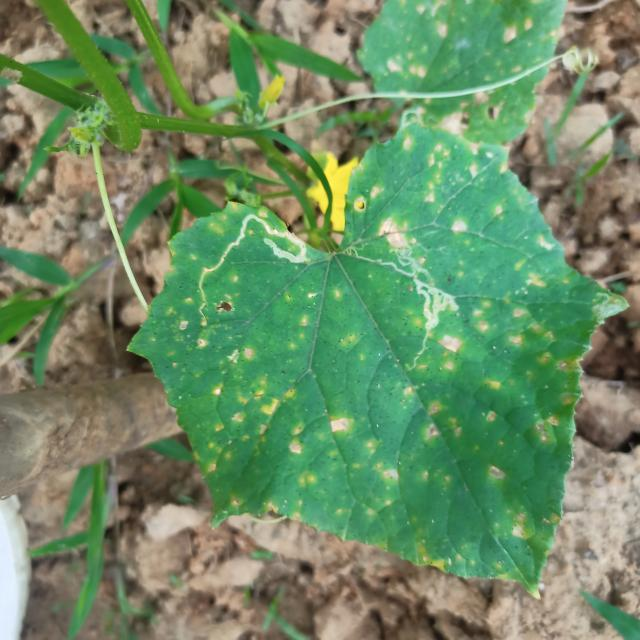disease_cucumber: (196, 152, 574, 559), (394, 4, 539, 142)
